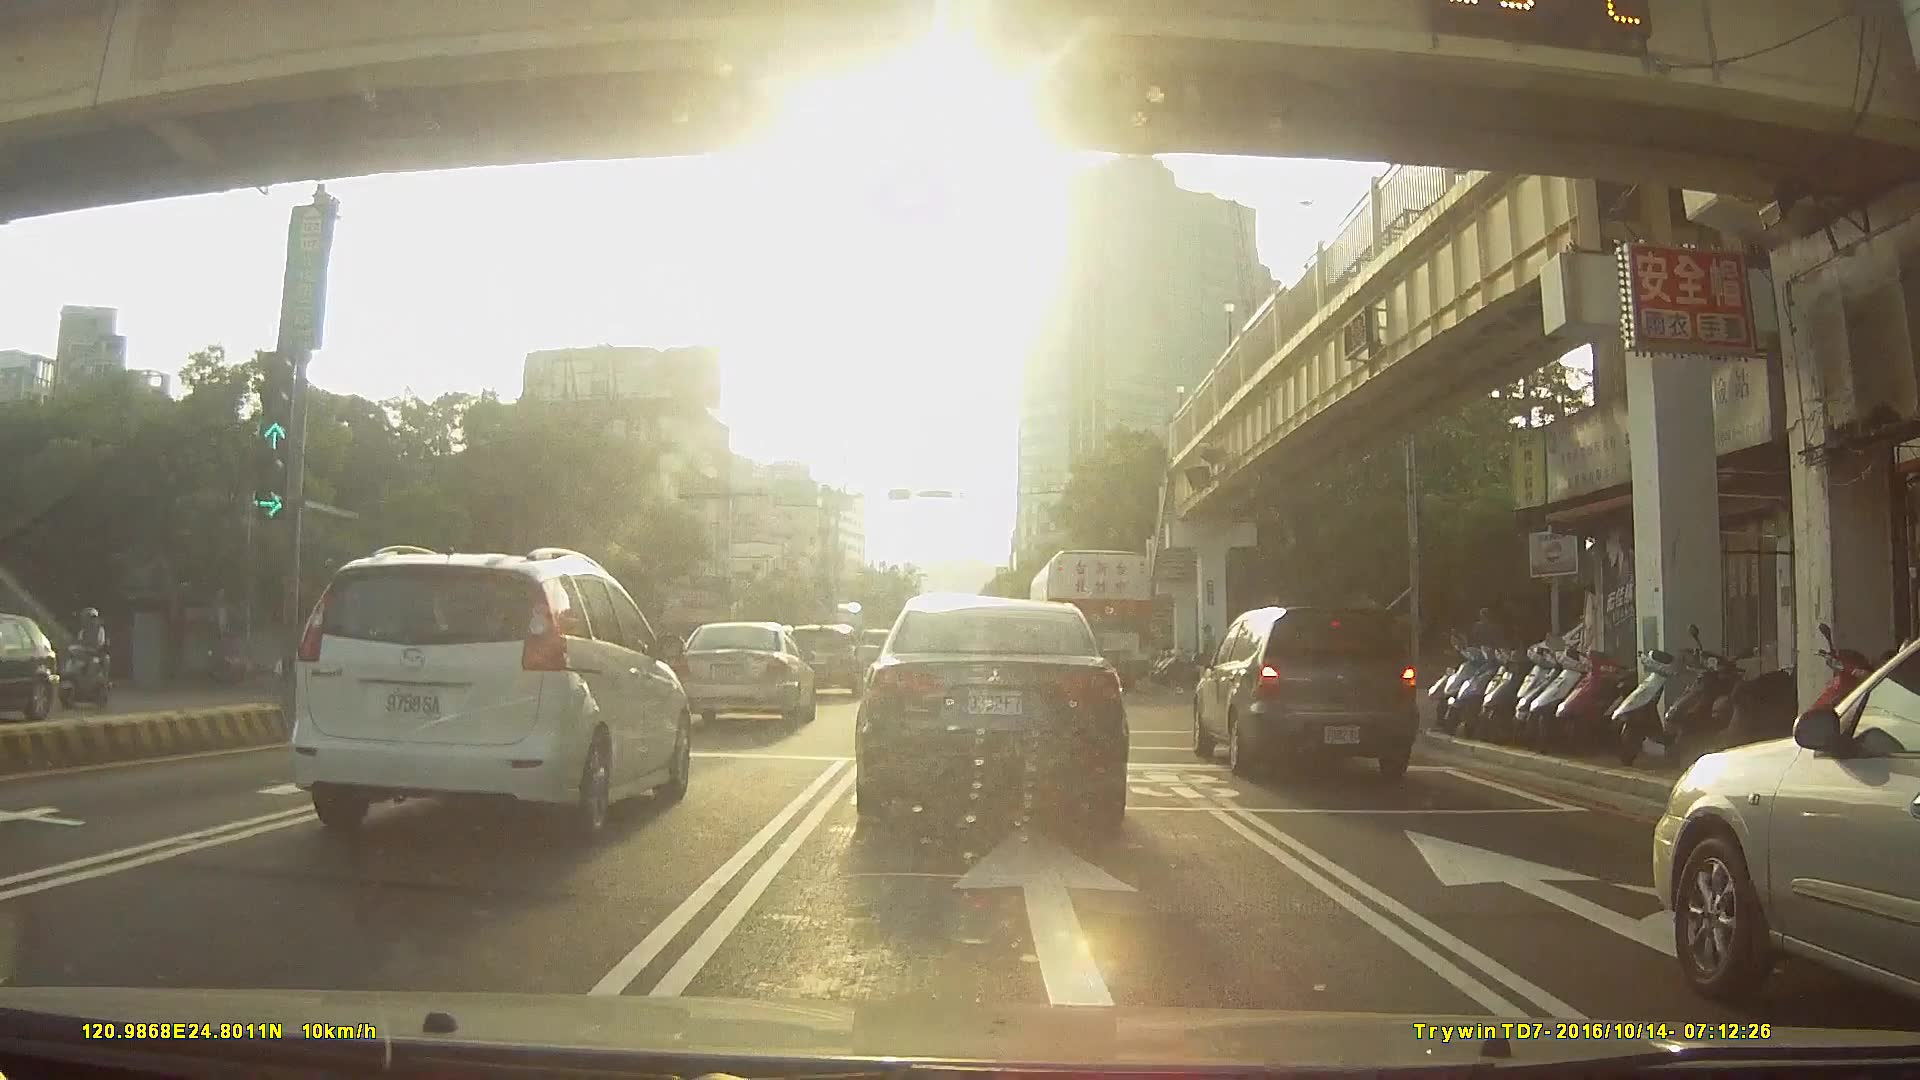pedestrian: (1205, 619, 1232, 682)
rider: (49, 605, 110, 711)
vehicle: (287, 541, 695, 842), (1648, 640, 1920, 1012), (852, 590, 1128, 834), (1194, 602, 1420, 777), (1026, 546, 1151, 689), (675, 618, 815, 726), (1, 613, 67, 719), (779, 623, 863, 696)
